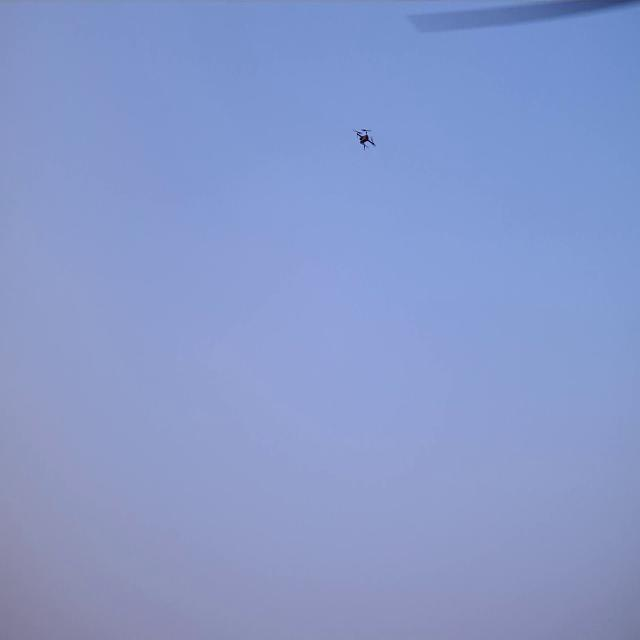UAV: (356, 129, 374, 148)
